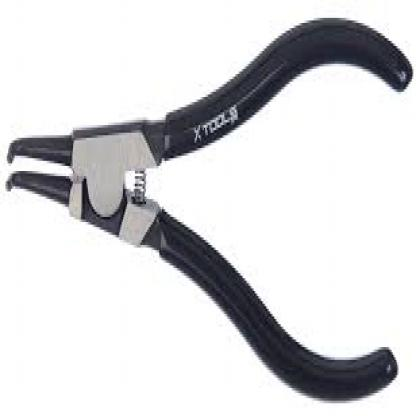Pliers: (6, 18, 413, 403)
